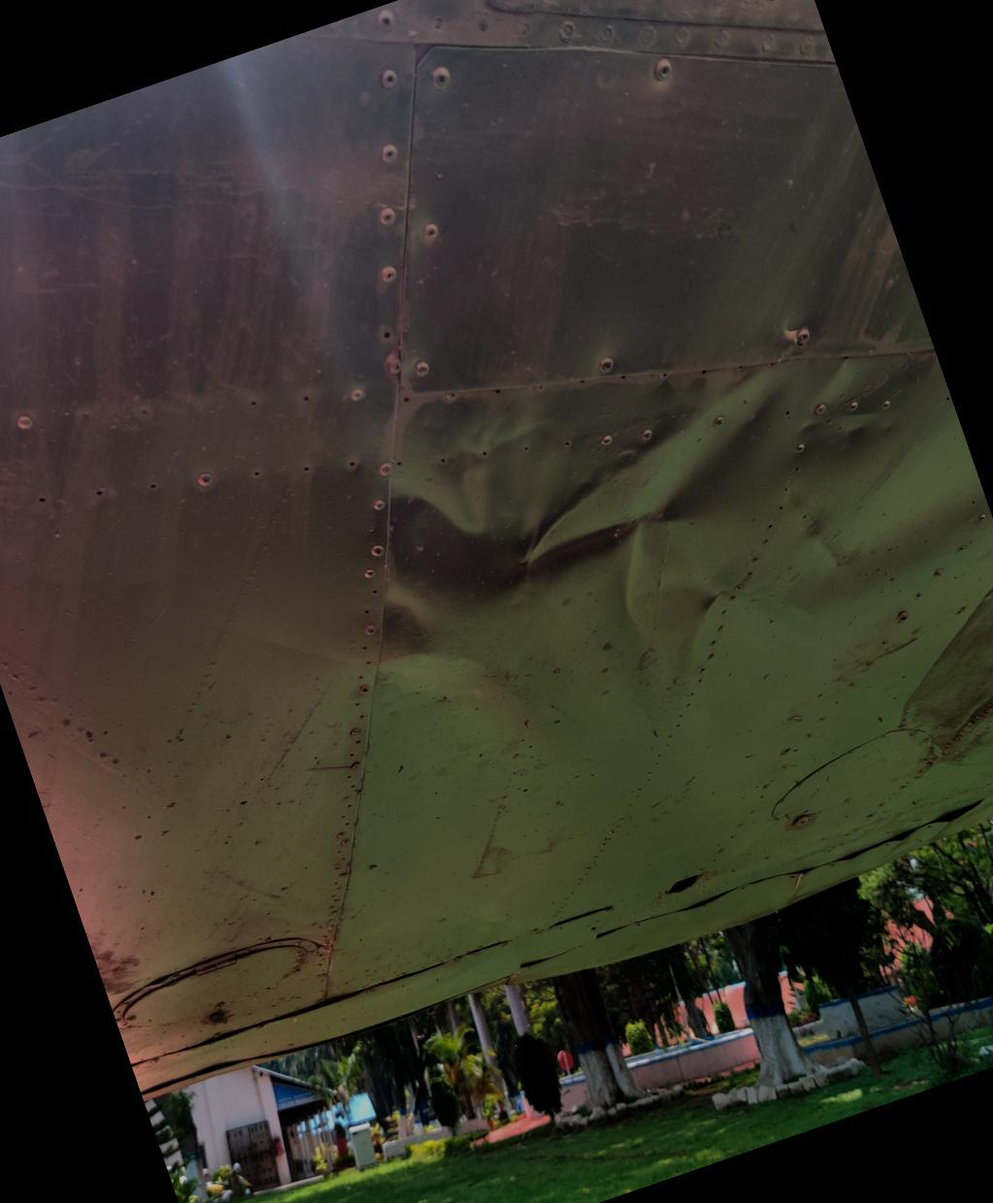dent: (282, 268, 868, 749)
